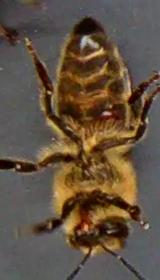varroa_mite: (92, 98, 122, 127)
